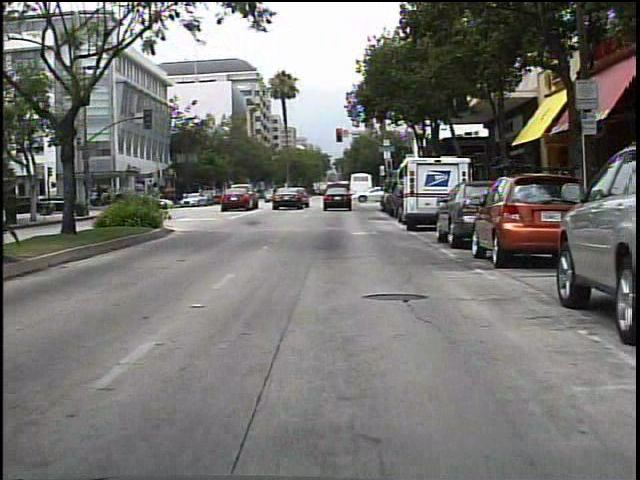person: (268, 182, 282, 206)
